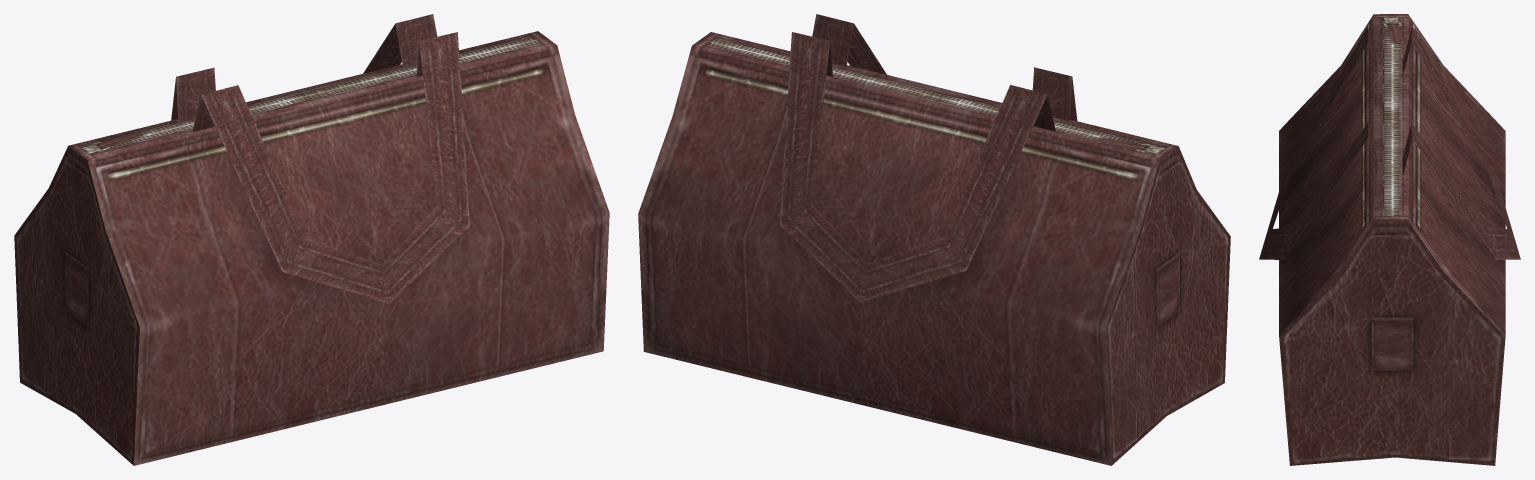
File: bag.FBX
The picture shows the model from 3 angles, left to right: view 1: azimuth 30°, elevation 25°; view 2: azimuth 150°, elevation 25°; view 3: azimuth 270°, elevation 25°; orthographic projection. The views are drawn at different scales.
Parts seen in each view (by area): view 1: bag; view 2: bag; view 3: bag.
Boxes of the visible parts, <box> form: bag: <box>14,14,609,465</box>; bag: <box>638,14,1230,465</box>; bag: <box>1259,14,1520,465</box>.
Size of what is drawn, in the model's own units: 39.91 by 25.39 by 21.38.
